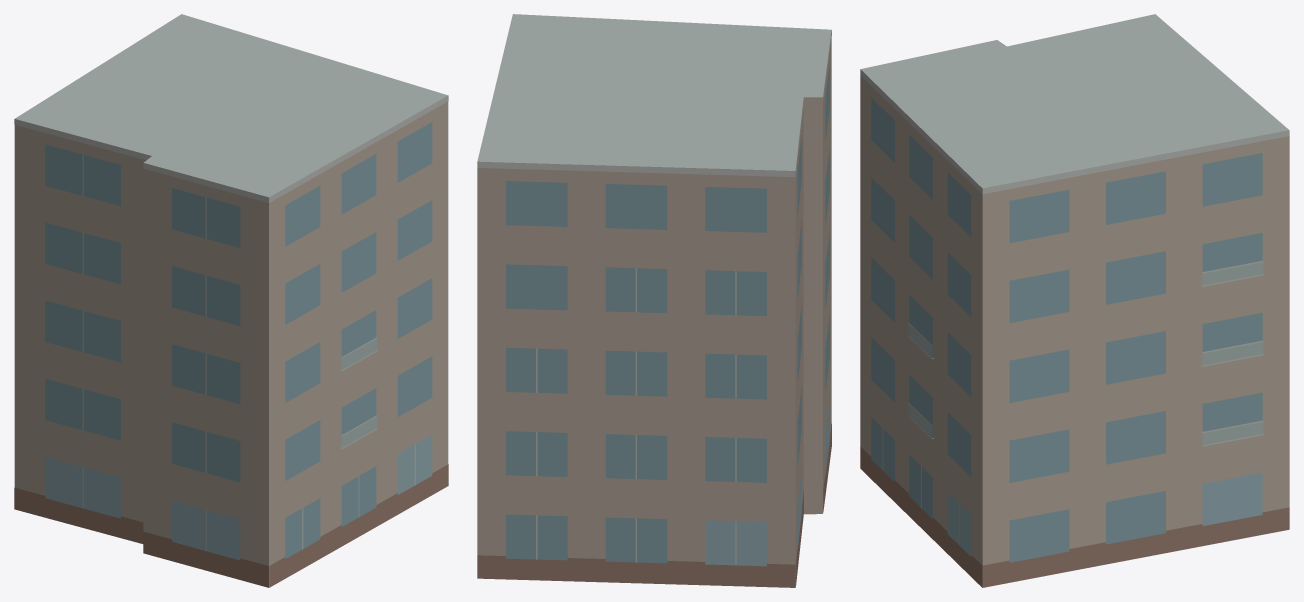
Rendered from survey-upis-32861062.glb.
3 views of the same model, side by side, from view 1: azimuth 30°, elevation 25°; view 2: azimuth 150°, elevation 25°; view 3: azimuth 270°, elevation 25° (orthographic). The views are drawn at different scales.
Parts seen in each view (by area): view 1: survey-upis-32861062.tmp; view 2: survey-upis-32861062.tmp; view 3: survey-upis-32861062.tmp.
Boxes of the visible parts, <box> form: survey-upis-32861062.tmp: <box>14,14,448,587</box>; survey-upis-32861062.tmp: <box>477,14,831,587</box>; survey-upis-32861062.tmp: <box>860,14,1289,587</box>.
Size of the model in its own units: 15.46 by 16.5 by 16.07.
